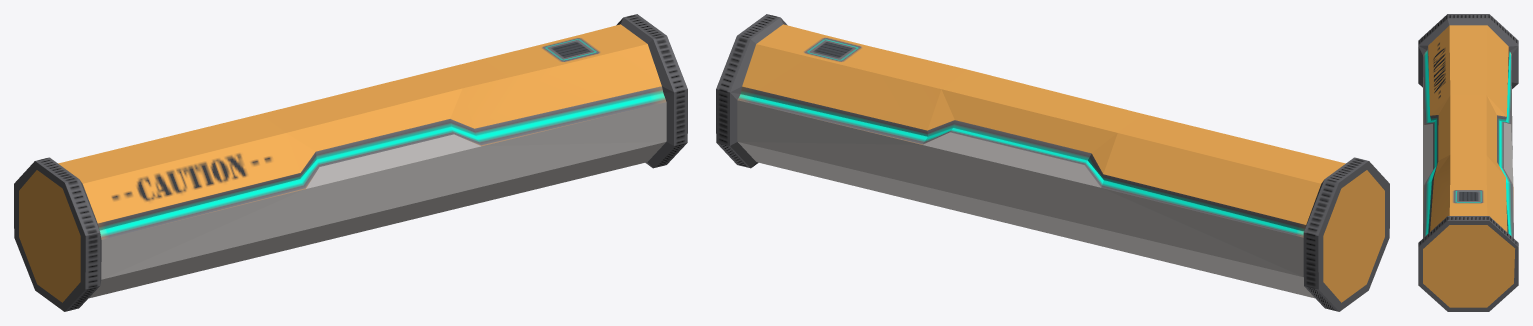
File: SM_Bld_Pipe_Small_02.fbx
3 views of the same model, side by side, from view 1: azimuth 30°, elevation 25°; view 2: azimuth 150°, elevation 25°; view 3: azimuth 270°, elevation 25° (orthographic). The views are drawn at different scales.
Visible parts, largest first — view 1: SM_Bld_Pipe_Small_02; view 2: SM_Bld_Pipe_Small_02; view 3: SM_Bld_Pipe_Small_02.
Boxes of the visible parts, bbox=[...] form: SM_Bld_Pipe_Small_02: bbox=[14, 14, 687, 311]; SM_Bld_Pipe_Small_02: bbox=[716, 14, 1389, 311]; SM_Bld_Pipe_Small_02: bbox=[1418, 14, 1518, 311].
Bounding box in the file's own units: 250 × 51.31 × 51.38.
